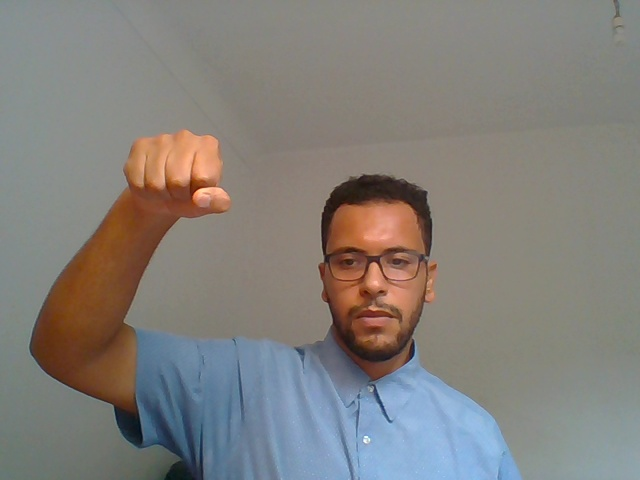yes: (71, 91, 255, 300)
